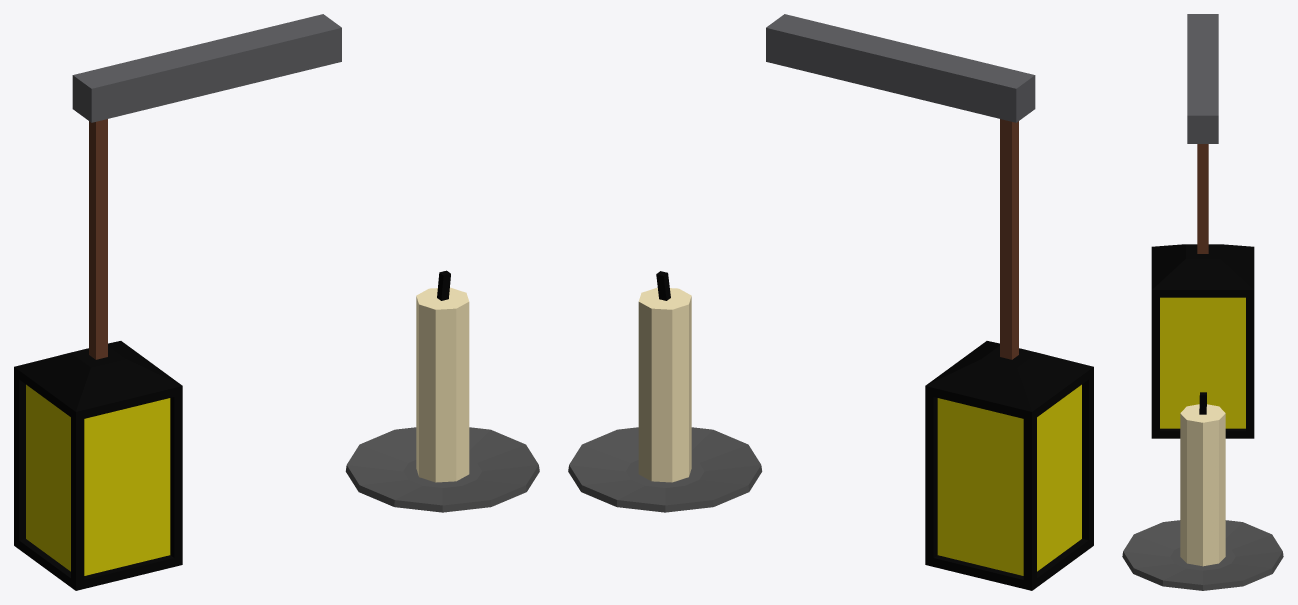
The model's file is светильники.fbx.
3 views of the same model, side by side, from view 1: azimuth 30°, elevation 25°; view 2: azimuth 150°, elevation 25°; view 3: azimuth 270°, elevation 25° (orthographic). The views are drawn at different scales.
Visible parts, largest first — view 1: Куб.002, Окружность; view 2: Куб.002, Окружность; view 3: Куб.002, Окружность.
Boxes of the visible parts, x1,y1,x2,y2 form: Куб.002: [14, 14, 341, 590]; Окружность: [345, 270, 539, 512]; Куб.002: [766, 14, 1093, 590]; Окружность: [568, 271, 762, 512]; Куб.002: [1151, 14, 1254, 438]; Окружность: [1122, 392, 1283, 590].
Bounding box in the file's own units: 1409 × 1352 × 492.
